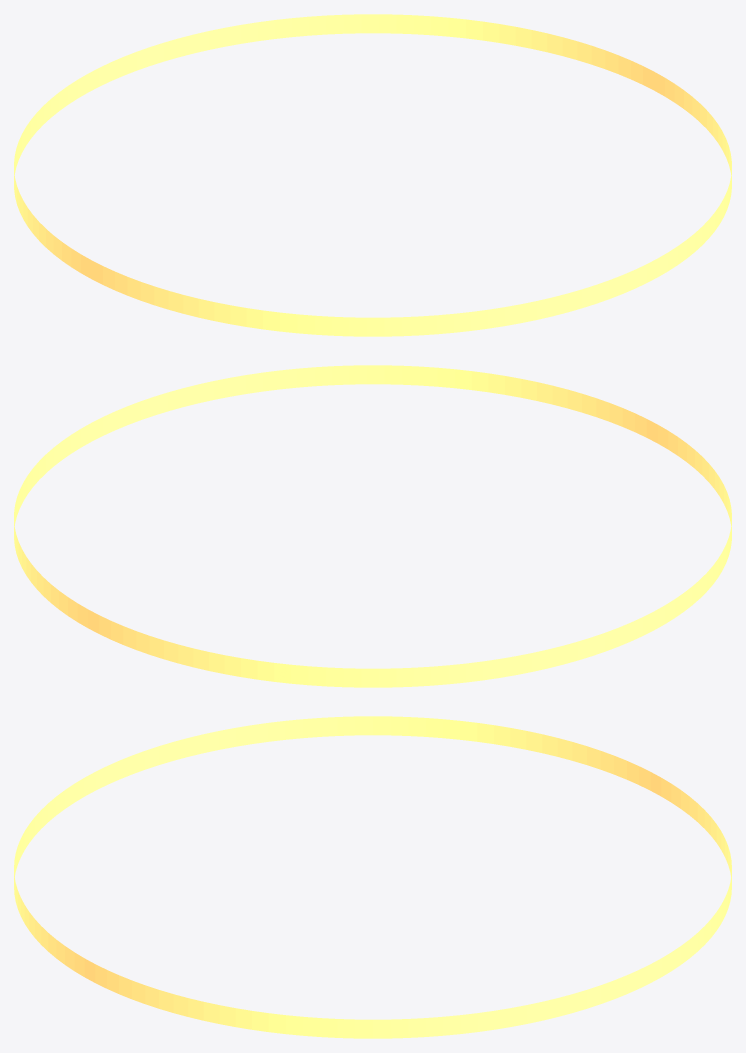
3 views of the same model, one above another, from view 1: azimuth 30°, elevation 25°; view 2: azimuth 150°, elevation 25°; view 3: azimuth 270°, elevation 25° (orthographic).
Visible parts, largest first — view 1: Well Glow Band; view 2: Well Glow Band; view 3: Well Glow Band.
Boxes of the visible parts, x1=… form: Well Glow Band: x1=14, y1=14, x2=731, y2=336; Well Glow Band: x1=14, y1=365, x2=731, y2=687; Well Glow Band: x1=14, y1=716, x2=731, y2=1038.
Size of the model in its own units: 41.04 by 1.2 by 41.04.
